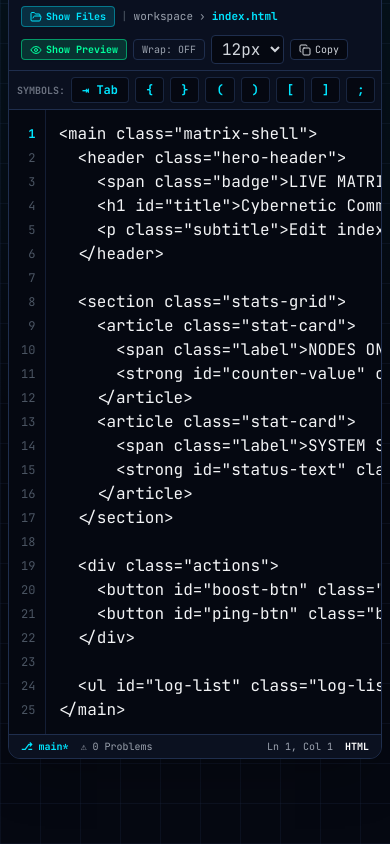
Test: OnlineMatrixIde Component › resets modified files when clicking Reset Project Code
(page scrolled)
Replace the text in the text box named "matrix studio code editor" with "<div>Modified content</div>" at (214, 422), box top-left (46, 110), bottom-right (381, 734)
(page scrolled)
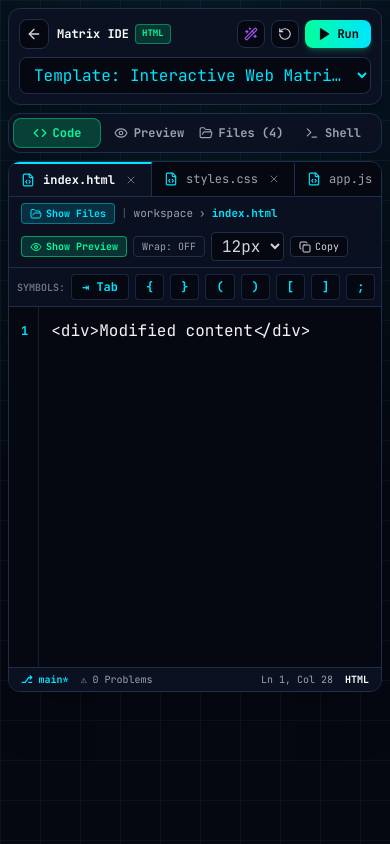
Click the button titled "Reset Project Code" at (285, 34), box top-left (271, 20), bottom-right (299, 48)
(page scrolled)
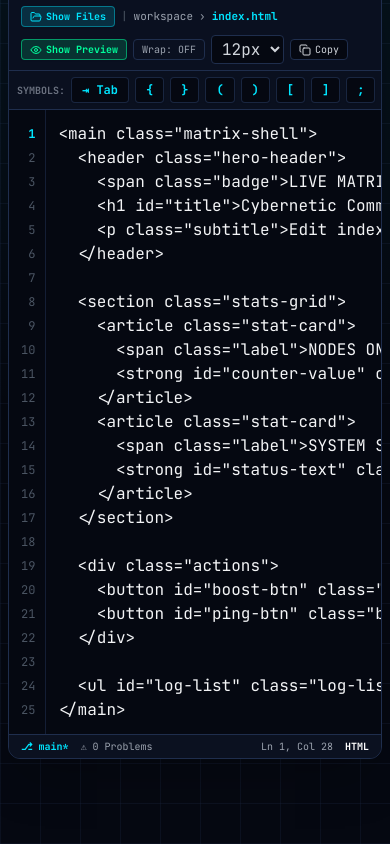
Now the text box named "matrix studio code editor" holds "<main class=\"matrix-shell\">   <header class=\"hero-header\">     <span class=\"badge\">LIVE MATRIX IDE</span>     <h1 id=\"title\">Cybernetic Command Deck</h1>     <p"
